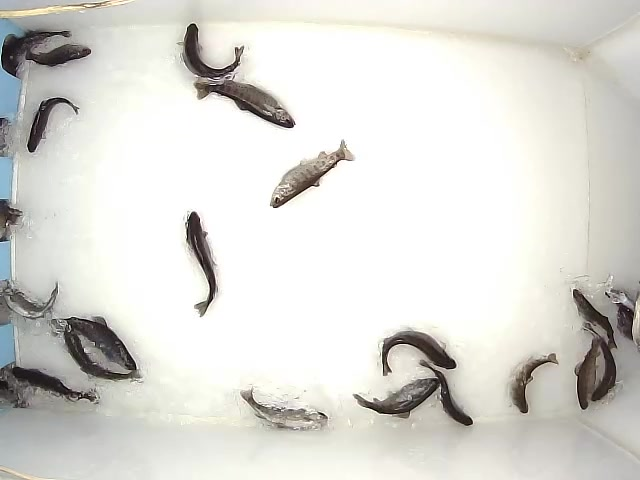fish: (269, 138, 358, 209), (192, 79, 296, 130), (47, 316, 137, 372), (63, 324, 144, 383), (239, 386, 330, 432), (380, 324, 457, 378), (174, 23, 245, 81), (351, 376, 441, 420), (418, 358, 474, 427), (184, 210, 219, 320), (11, 366, 101, 405), (504, 352, 559, 415), (581, 320, 617, 403), (27, 97, 80, 153), (571, 287, 618, 350), (1, 278, 60, 323), (574, 335, 603, 410), (24, 43, 92, 68)
